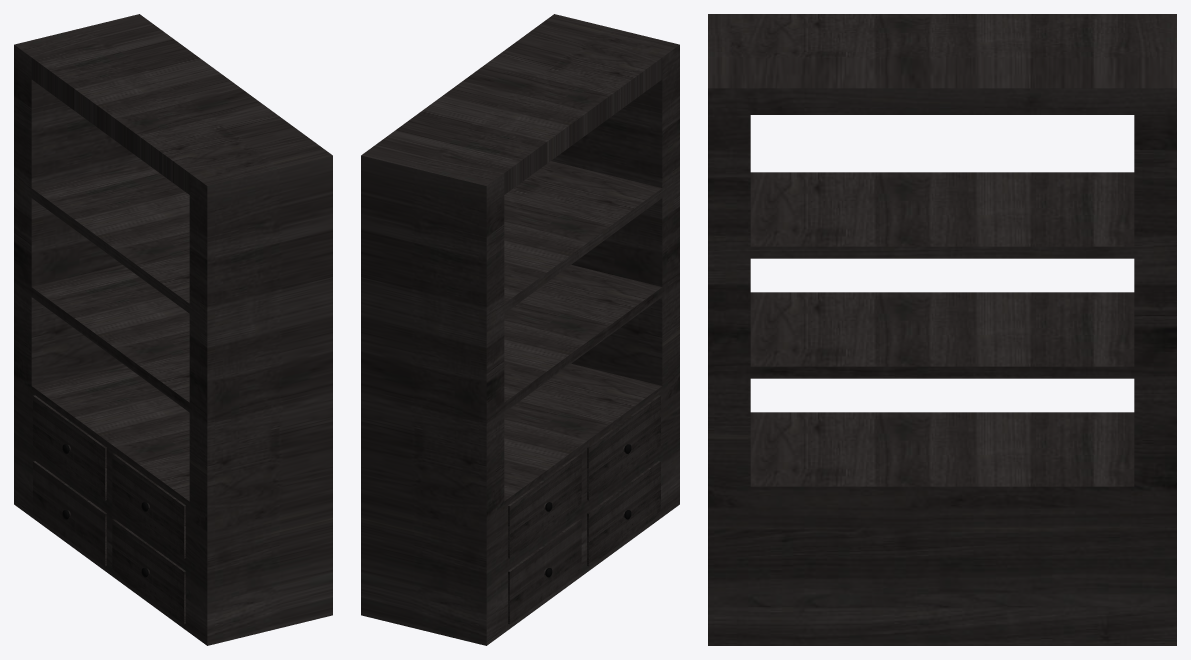
File: shelf1.fbx
3 renders of one model, left to right at view 1: azimuth 30°, elevation 25°; view 2: azimuth 150°, elevation 25°; view 3: azimuth 270°, elevation 25°, orthographic. The views are drawn at different scales.
Parts seen in each view (by area): view 1: Cube, top right shelf, lower left shelf, top left shelf, lower right shelf; view 2: Cube, top right shelf, lower right shelf, top left shelf, lower left shelf; view 3: Cube.
Boxes of the visible parts, x1=… form: Cube: x1=14, y1=14, x2=332, y2=645; top right shelf: x1=112, y1=453, x2=185, y2=558; lower left shelf: x1=33, y1=461, x2=106, y2=566; top left shelf: x1=33, y1=395, x2=106, y2=500; lower right shelf: x1=112, y1=519, x2=185, y2=624; Cube: x1=361, y1=14, x2=679, y2=645; top right shelf: x1=587, y1=395, x2=660, y2=500; lower right shelf: x1=587, y1=461, x2=660, y2=566; top left shelf: x1=508, y1=453, x2=581, y2=558; lower left shelf: x1=508, y1=519, x2=581, y2=624; Cube: x1=708, y1=14, x2=1176, y2=645.
Bounding box in the file's own units: 318 × 1050 × 800.
